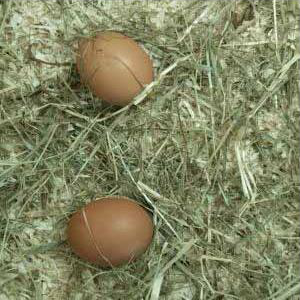egg: (64, 198, 156, 268), (75, 32, 156, 108)
